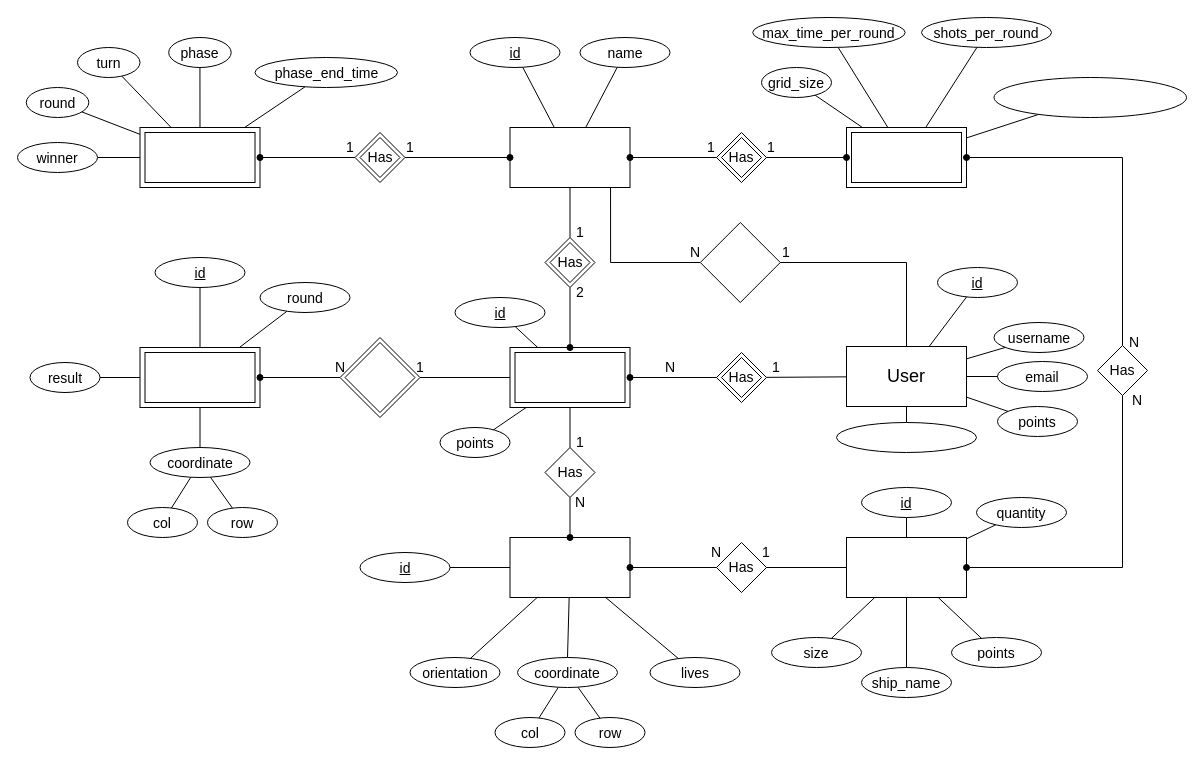
This 1204x765 diagram has some shape labels left out. Each missing label, with the box of its shape:
Created By: (699, 222, 780, 302)
Game: (509, 126, 630, 188)
GameConfig: (846, 126, 966, 188)
GameState: (139, 126, 260, 188)
hashed_password: (836, 422, 976, 452)
Made By: (339, 336, 420, 418)
max_time_for_layout_phase: (993, 76, 1186, 118)
Player: (509, 346, 630, 408)
Ship: (509, 536, 630, 598)
ShipType: (846, 536, 966, 598)
Shot: (139, 346, 260, 408)
